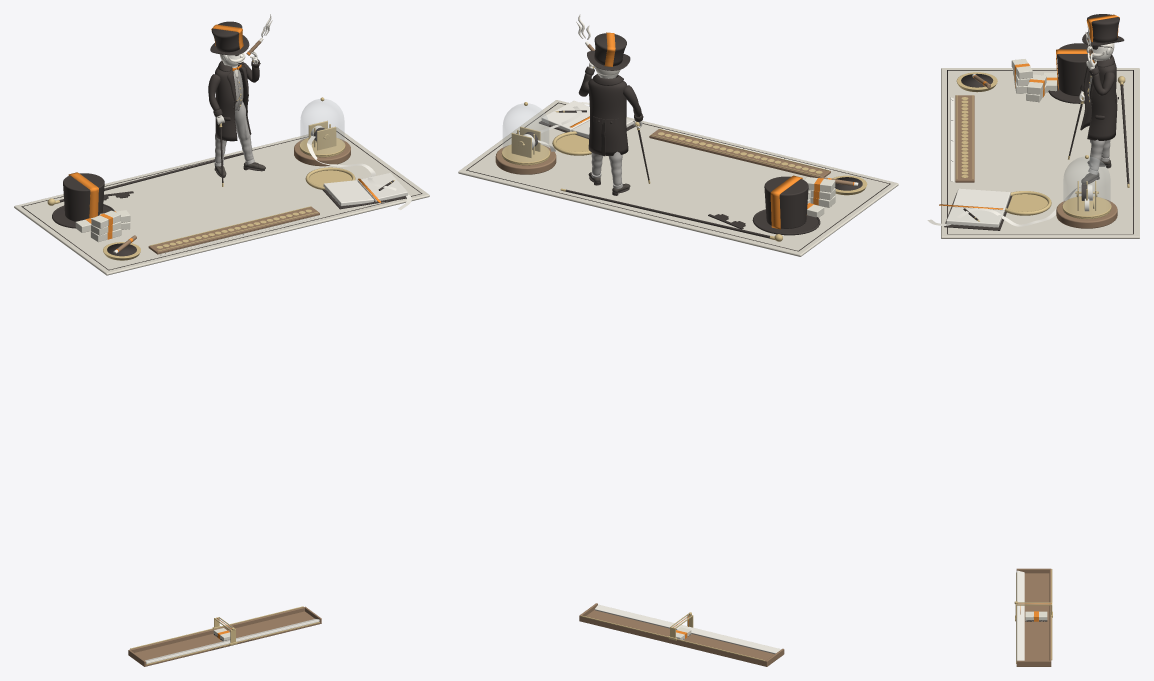
File: desk.glb
3 renders of one model, left to right at view 1: azimuth 30°, elevation 25°; view 2: azimuth 150°, elevation 25°; view 3: azimuth 270°, elevation 25°, orthographic. The views are drawn at different scales.
Parts seen in each view (by area): view 1: Desk.Felt, Desk.Ink, Proto.Tray.Wood, Desk.Brass, Desk.Wood, Desk.Glass, Desk.Ink.Plain, Desk.Stripe, Ledger.Page.L, Desk.Hat, Desk.Strap.Plain, Ledger.Page.R (+1 smaller); view 2: Desk.Felt, Desk.Ink, Desk.Brass, Proto.Tray.Wood, Desk.Wood, Desk.Glass, Proto.Tray.Ivory, Desk.Ink.Plain, Desk.Hat, Desk.Strap.Plain, Ledger.Page.R, Desk.Stripe; view 3: Desk.Felt, Desk.Ink, Desk.Brass, Proto.Tray.Wood, Desk.Glass, Desk.Wood, Ledger.Page.L, Desk.Ink.Plain, Ledger.Page.R, Desk.Hat, Desk.Ivory, Proto.Tray.Ivory (+4 smaller).
Boxes of the visible parts, left/top/right/bottom form: Desk.Felt: left=14, top=127, right=429, bottom=275; Desk.Ink: left=52, top=54, right=406, bottom=228; Proto.Tray.Wood: left=128, top=606, right=321, bottom=666; Desk.Brass: left=47, top=60, right=394, bottom=260; Desk.Wood: left=117, top=40, right=350, bottom=254; Desk.Glass: left=300, top=99, right=344, bottom=153; Desk.Ink.Plain: left=21, top=131, right=422, bottom=270; Desk.Stripe: left=214, top=101, right=254, bottom=166; Ledger.Page.L: left=323, top=180, right=373, bottom=206; Desk.Hat: left=210, top=21, right=249, bottom=55; Desk.Strap.Plain: left=68, top=24, right=381, bottom=218; Ledger.Page.R: left=357, top=173, right=408, bottom=201; Desk.Felt: left=458, top=100, right=898, bottom=256; Desk.Ink: left=525, top=66, right=820, bottom=238; Desk.Brass: left=501, top=66, right=866, bottom=241; Proto.Tray.Wood: left=579, top=603, right=784, bottom=666; Desk.Wood: left=495, top=44, right=853, bottom=185; Desk.Glass: left=503, top=103, right=548, bottom=161; Proto.Tray.Ivory: left=594, top=604, right=781, bottom=653; Desk.Ink.Plain: left=466, top=102, right=890, bottom=251; Desk.Hat: left=587, top=33, right=630, bottom=70; Desk.Strap.Plain: left=570, top=32, right=802, bottom=229; Ledger.Page.R: left=541, top=100, right=589, bottom=131; Desk.Stripe: left=591, top=151, right=622, bottom=188; Desk.Felt: left=941, top=68, right=1139, bottom=238; Desk.Ink: left=944, top=43, right=1129, bottom=230; Desk.Brass: left=956, top=72, right=1129, bottom=221; Proto.Tray.Wood: left=1016, top=568, right=1051, bottom=666; Desk.Glass: left=1063, top=156, right=1110, bottom=215; Desk.Wood: left=955, top=49, right=1117, bottom=228; Ledger.Page.L: left=952, top=188, right=1010, bottom=211; Desk.Ink.Plain: left=947, top=46, right=1133, bottom=234; Ledger.Page.R: left=946, top=207, right=1004, bottom=227; Desk.Hat: left=1082, top=14, right=1124, bottom=45; Desk.Ivory: left=950, top=43, right=1110, bottom=200; Proto.Tray.Ivory: left=1016, top=570, right=1024, bottom=662.
Size of the model in its own units: 31 by 54 by 16.48.
